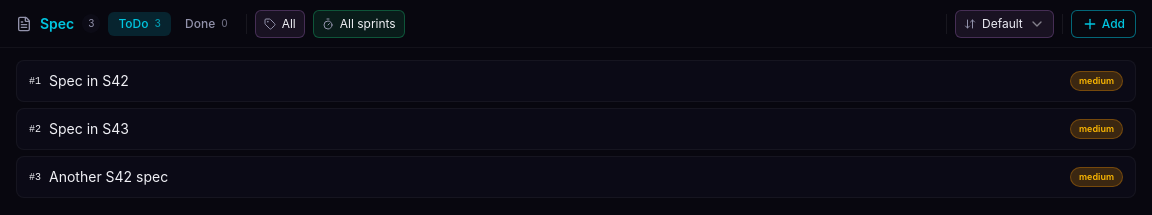
Test: SpecsBoard sprint filter › shows the sprint filter and filters the board to the chosen sprint
expect the text "Spec in S42" is shown: met, box [49,72,129,89]
expect the text "Spec in S43" is shown: met, box [49,120,129,137]
Step 1. Click the button with test id "spec-sprint-filter-dropdown" → point(359, 24), box [313,10,405,38]
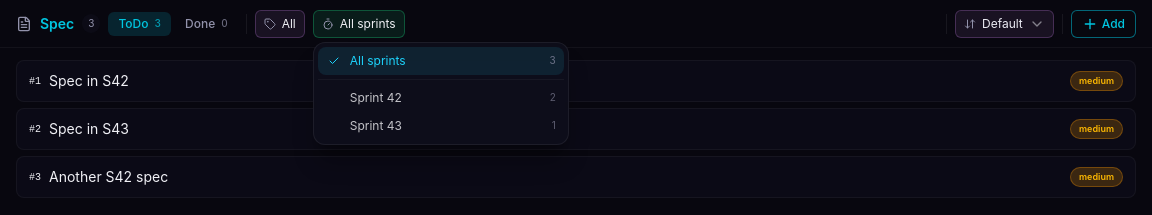
Step 2. Click the option "Sprint 42 2" → point(441, 98), box [318,84,564,112]
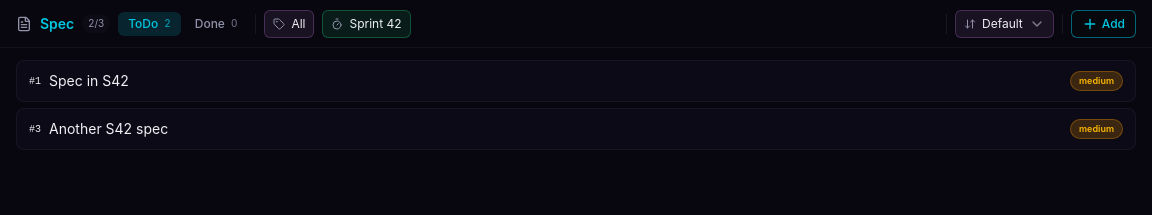
expect the text "Spec in S42" is shown: met, box [49,72,129,89]
expect the button "Spec in S43" is gone: met
